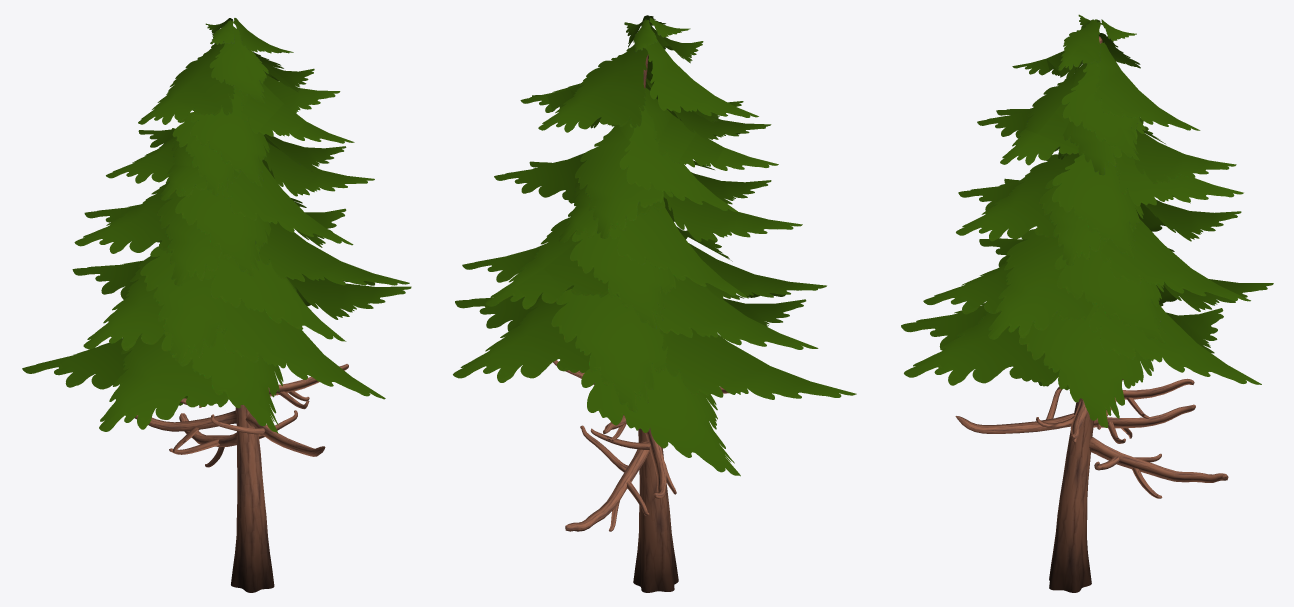
Rendered from Pine_1.gltf.
The picture shows the model from 3 angles, left to right: view 1: azimuth 30°, elevation 25°; view 2: azimuth 150°, elevation 25°; view 3: azimuth 270°, elevation 25°; orthographic projection. The views are drawn at different scales.
Visible parts, largest first — view 1: Pine_1; view 2: Pine_1; view 3: Pine_1.
Boxes of the visible parts, box(x1,y1,x2,y2) form: Pine_1: box(22, 18, 411, 592); Pine_1: box(453, 15, 856, 592); Pine_1: box(901, 14, 1273, 592).
Size of the model in its own units: 4.94 by 7.32 by 4.54.
2 materials, 2 textured.
